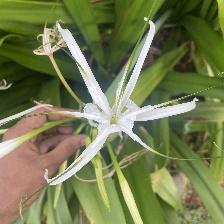spider lily: (1, 15, 209, 190)
